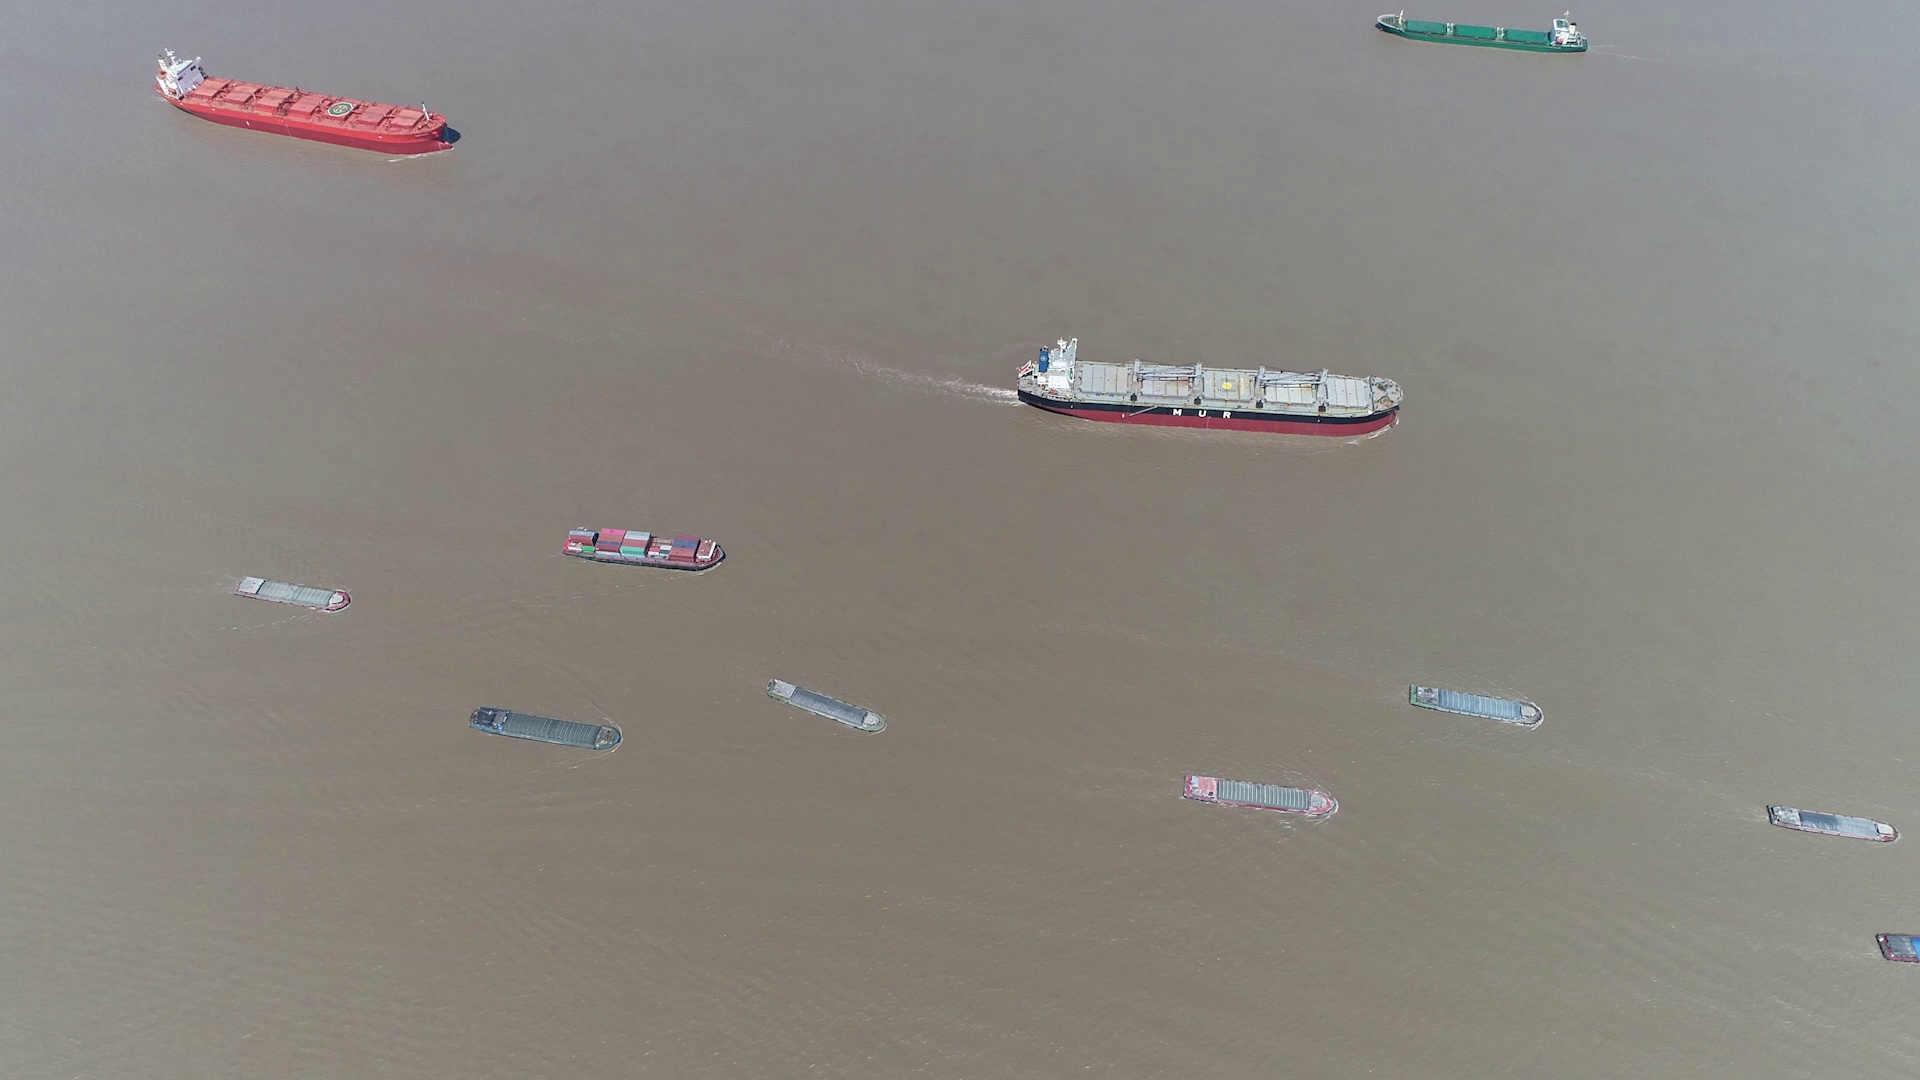ship: (1018, 339, 1404, 436), (157, 46, 454, 154), (1371, 11, 1588, 55), (560, 526, 725, 571), (469, 708, 624, 753), (767, 680, 887, 736), (1185, 774, 1338, 816), (1407, 684, 1545, 728), (1764, 804, 1900, 844), (233, 576, 351, 611), (1876, 932, 1919, 965)
